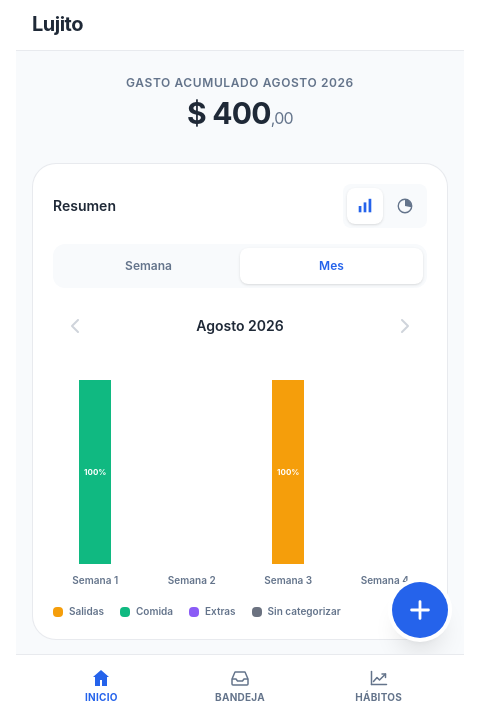
Test: PantallaDashboard — pestañas de granularidad con datos reales (trabajo ad hoc) › la pestaña "Semana" dibuja 7 barras LUN..DOM con su propio rango de fechas en el header
What coordinates should you click on to do the following:
click the button with test id "granularidad-semana"
I would click on:
 (148, 266)
Its box is [57, 248, 240, 284].
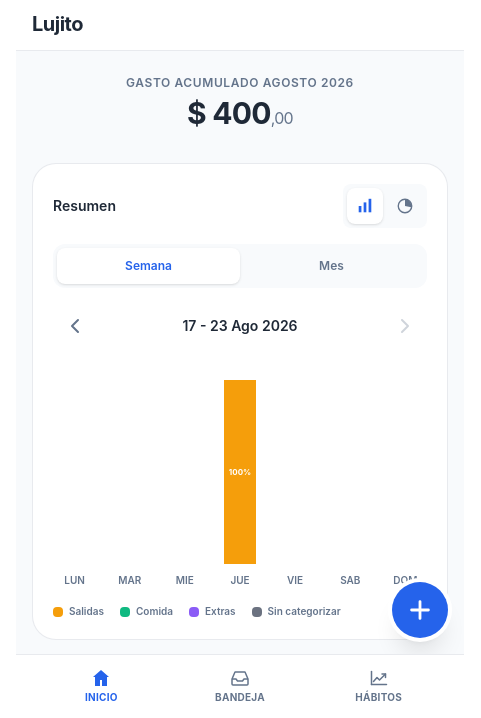
Check: the text with test id "periodo-foco" does not show "Sin datos", box [182, 316, 298, 336]
Check: the text "LUN" is shown, box [64, 573, 85, 588]
Check: the text "DOM" is shown, box [393, 573, 417, 588]
